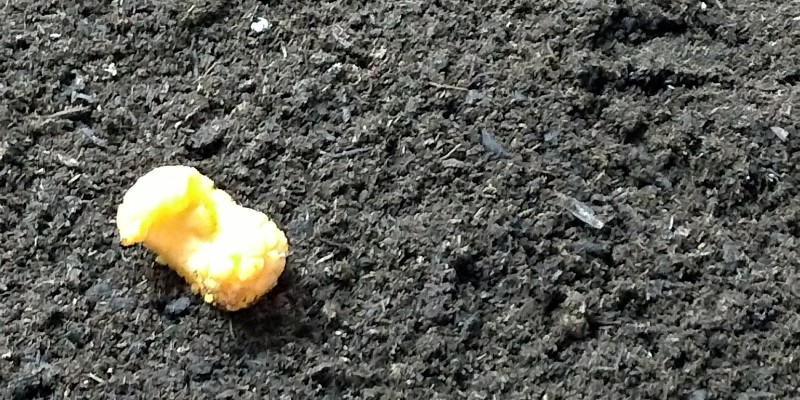eggs: (110, 160, 292, 313)
